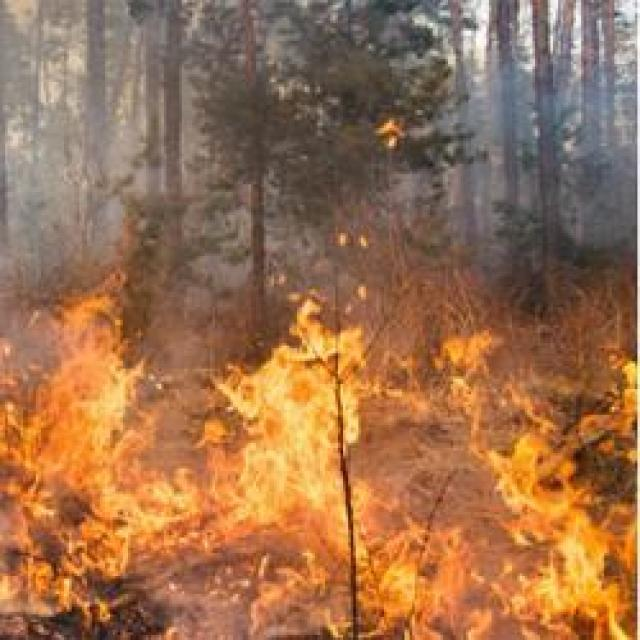Fire: (0, 294, 183, 616), (219, 336, 376, 554), (520, 353, 636, 640), (324, 527, 503, 640)
Smoke: (14, 17, 640, 277)
